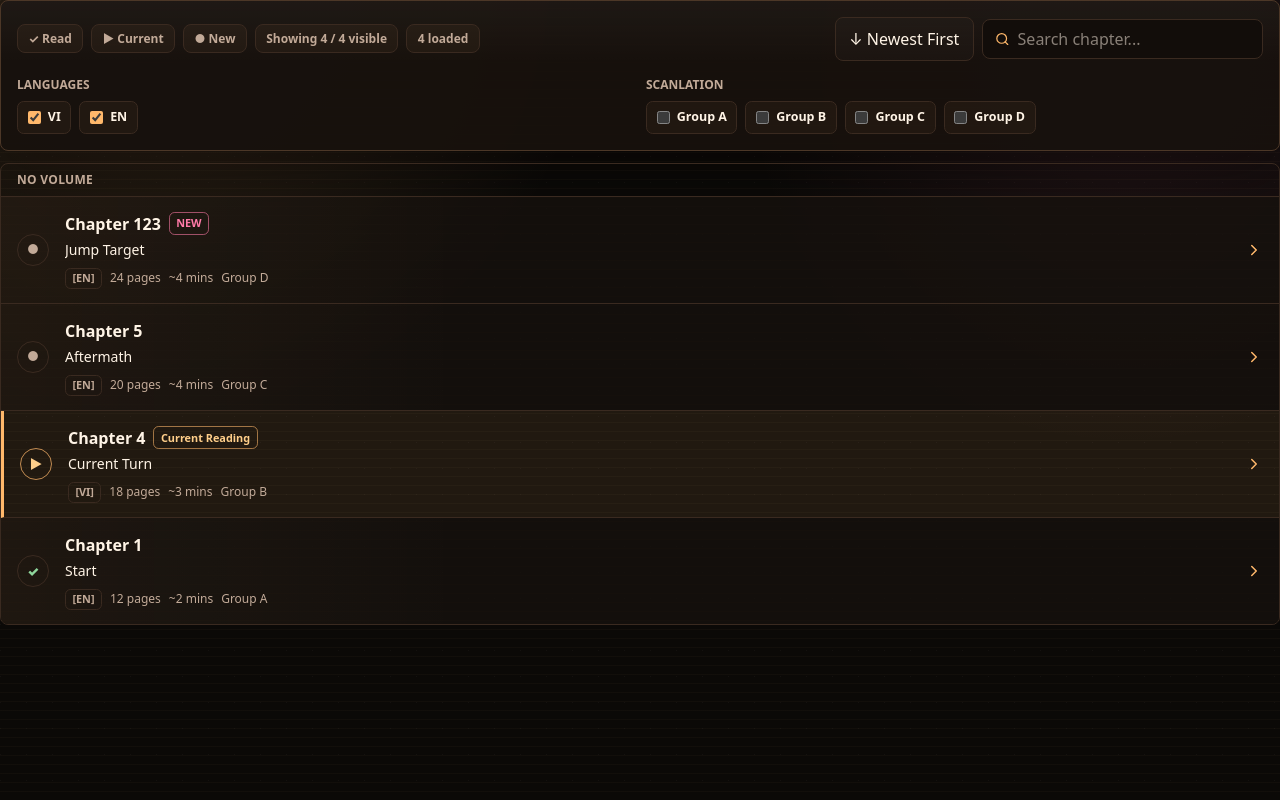
it: ChapterList › renders reading states, language badges, current highlight, and search
Expected: the text "✓ Read" is shown, [17,24,83,53]
Expected: the text "▶ Current" is shown, [91,24,175,53]
Type "123" into the field with placeholder "Search chapter...".
click(1134, 39); type("123")  # box [1018,27,1250,51]
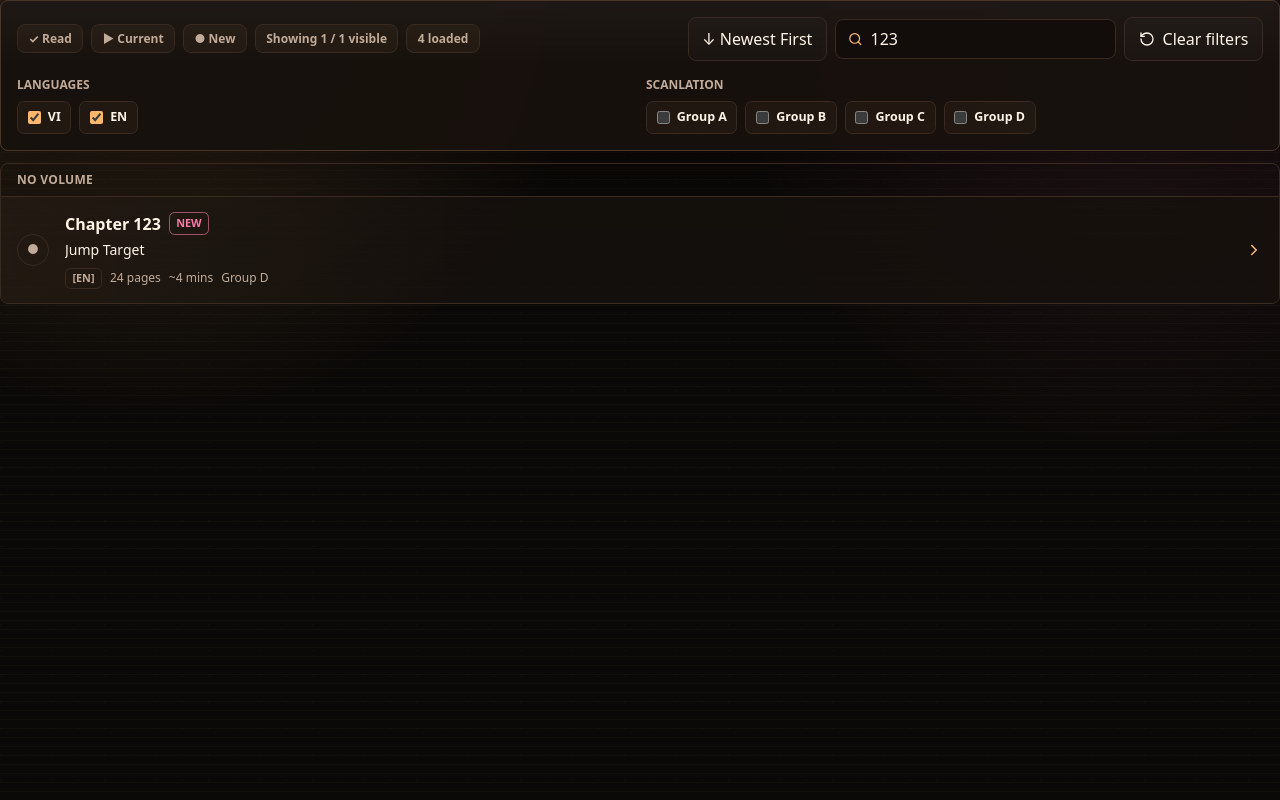
Expected: the text "Chapter 123" is shown, [65,212,161,236]
Expected: the link "Chapter 4" is gone
